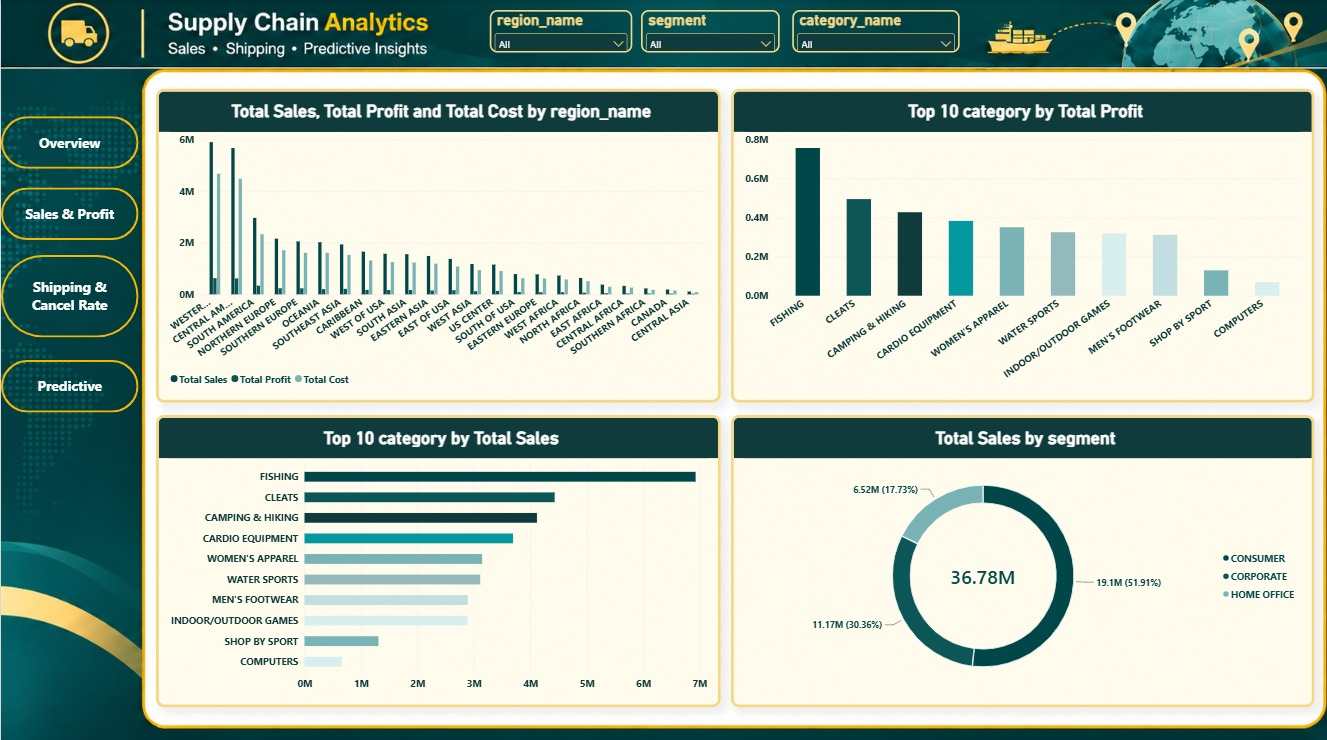

What the dashboard file says about the page in this screenshot:
{"tool":"powerbi","page":{"name":"Sales & Profit","canvas":[1920,1080],"ordinal":1},"visuals":[{"type":"clusteredColumnChart","fields":{"Category":["dim_region.region_name"],"Y":["Measures (2).Total Sales","Measures (2).Total Profit","Measures (2).Total Cost"]},"box":[225.2,168.9,817.1,435.8],"z":0},{"type":"clusteredBarChart","title":"Top 10  category by Total Sales ","fields":{"Category":["vw_dim_product_flat.category_name"],"Y":["Measures (2).Total Sales"]},"box":[225.2,615.5,818,423.5],"z":1000},{"type":"columnChart","title":"Top 10 category by Total Profit","fields":{"Category":["vw_dim_product_flat.category_name"],"Y":["Measures (2).Total Profit"]},"box":[1058.6,168.9,844.3,435.8],"z":2000},{"type":"donutChart","fields":{"Category":["vw_dim_customer_flat.segment"],"Y":["Measures (2).Total Sales"]},"box":[1056.8,615.5,845.1,423.5],"z":3000},{"type":"slicer","fields":{"Values":["vw_dim_product_flat.category_name"]},"box":[1145.5,14.5,242.5,61.5],"z":4000},{"type":"slicer","fields":{"Values":["vw_dim_customer_flat.segment"]},"box":[926.5,14.5,200.9,61.5],"z":5000},{"type":"slicer","fields":{"Values":["dim_region.region_name"]},"box":[707.6,14.5,206.3,61.5],"z":6000},{"type":"actionButton","box":[0,168.3,199.1,76],"z":7000},{"type":"actionButton","box":[0,271.4,199.1,76],"z":8000},{"type":"actionButton","box":[0,369.2,199.1,119.4],"z":9000},{"type":"actionButton","box":[0,521.2,199.1,76],"z":10000},{"type":"htmlContent443BE3AD55E043BF878BED274D3A6855","fields":{"content":["Measures (2).Tag2"]},"box":[225.2,108.9,1670.5,59.9],"z":11000}]}

Visuals, with their boxes in screenshot pixels (x1, y1, x2, y2), scaled from the page's 1920x1080 canvas onto the 1327x740 screenshot:
clusteredColumnChart - dim_region.region_name x Measures (2).Total Sales: 156/116/720/414
"Top 10  category by Total Sales " clusteredBarChart: 156/422/721/712
"Top 10 category by Total Profit" columnChart: 732/116/1315/414
donutChart - vw_dim_customer_flat.segment x Measures (2).Total Sales: 730/422/1314/712
slicer - vw_dim_product_flat.category_name: 792/10/959/52
slicer - vw_dim_customer_flat.segment: 640/10/779/52
slicer - dim_region.region_name: 489/10/632/52
actionButton: 0/115/138/167
actionButton: 0/186/138/238
actionButton: 0/253/138/335
actionButton: 0/357/138/409
htmlContent443BE3AD55E043BF878BED274D3A6855 - Measures (2).Tag2: 156/75/1310/116
